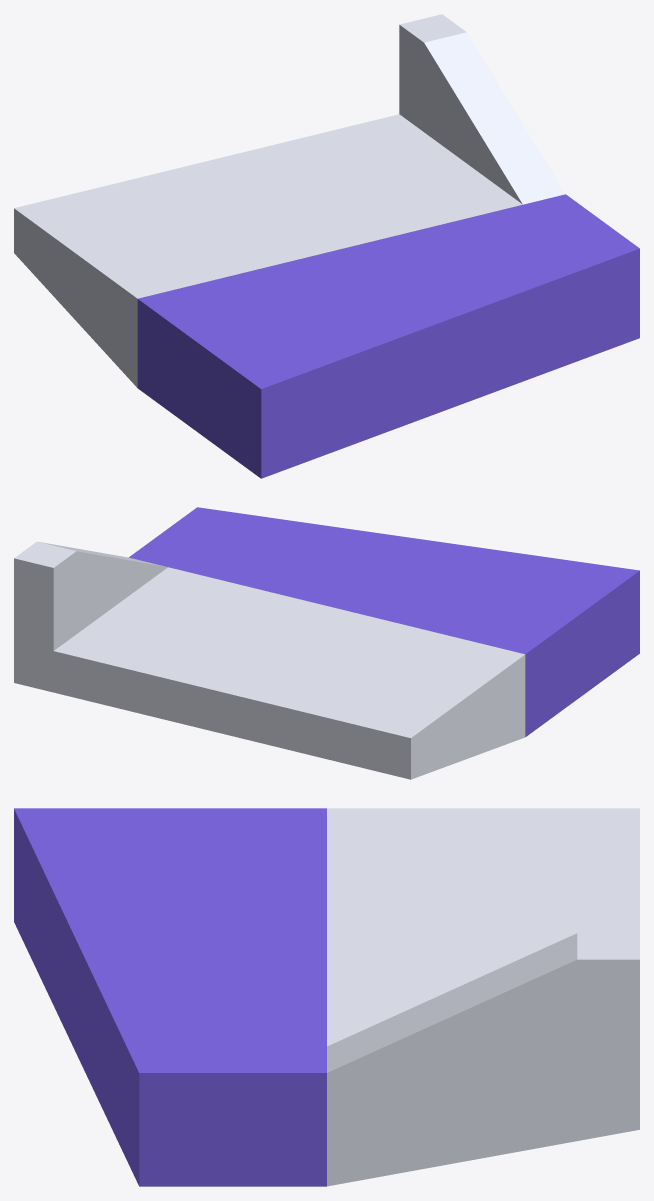
File: Wing_4.fbx
3 views of the same model, one above another, from view 1: azimuth 30°, elevation 25°; view 2: azimuth 150°, elevation 25°; view 3: azimuth 270°, elevation 25° (orthographic). The views are drawn at different scales.
Visible parts, largest first — view 1: wing_slantWingletHigh; view 2: wing_slantWingletHigh; view 3: wing_slantWingletHigh.
Part boxes in pixels (x1,y1,x2,y2): wing_slantWingletHigh: [14, 14, 639, 478]; wing_slantWingletHigh: [14, 507, 639, 779]; wing_slantWingletHigh: [14, 808, 639, 1186].
Size of the model in its own units: 10 by 4 by 10.
